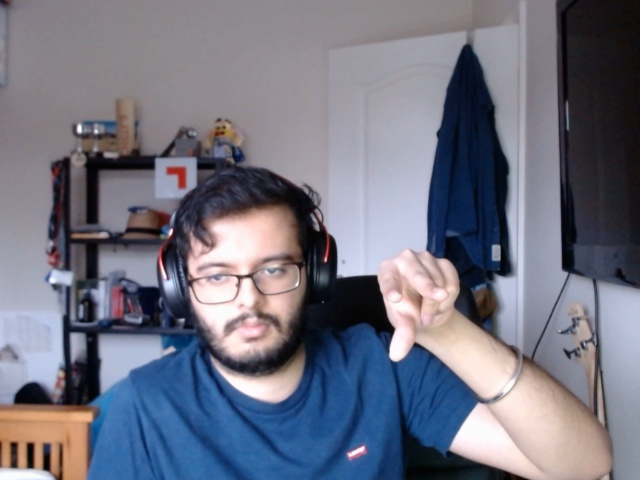No: (368, 248, 474, 371)
